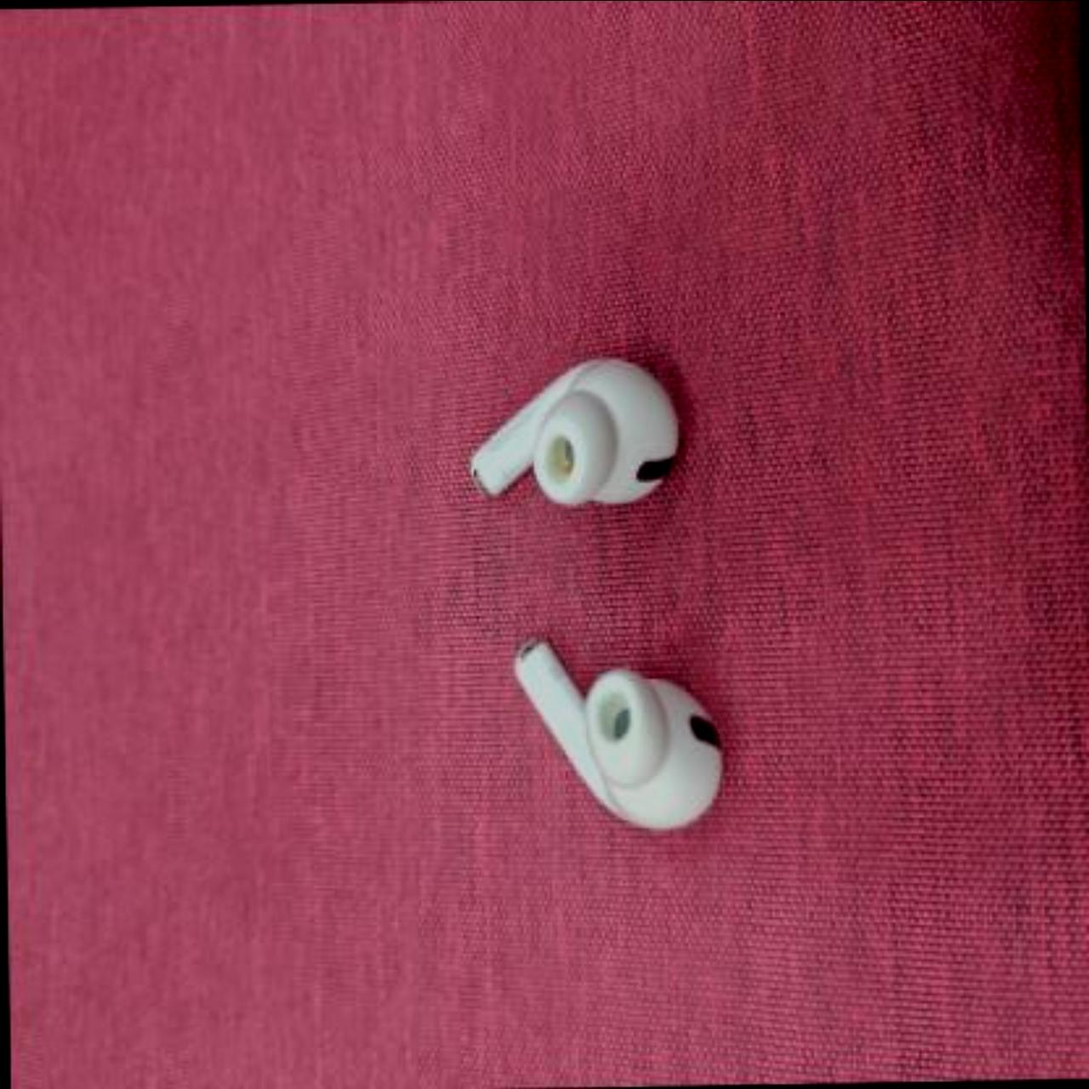Airpods_Units: (394, 300, 713, 556), (466, 609, 749, 839)
